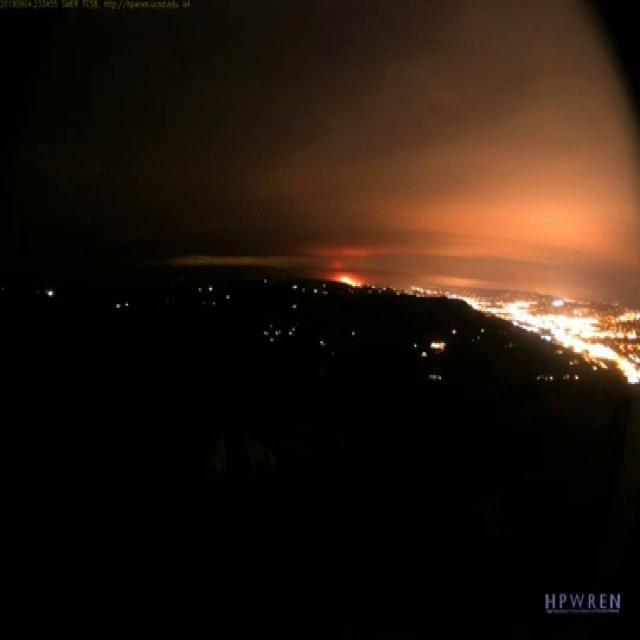Fire: (337, 268, 368, 292)
